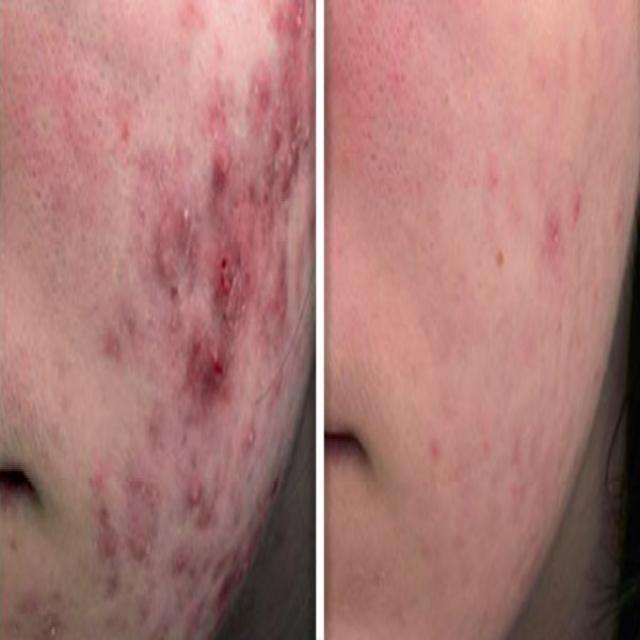acne: (105, 66, 316, 638), (169, 135, 277, 435), (536, 185, 594, 286), (427, 426, 449, 476)
